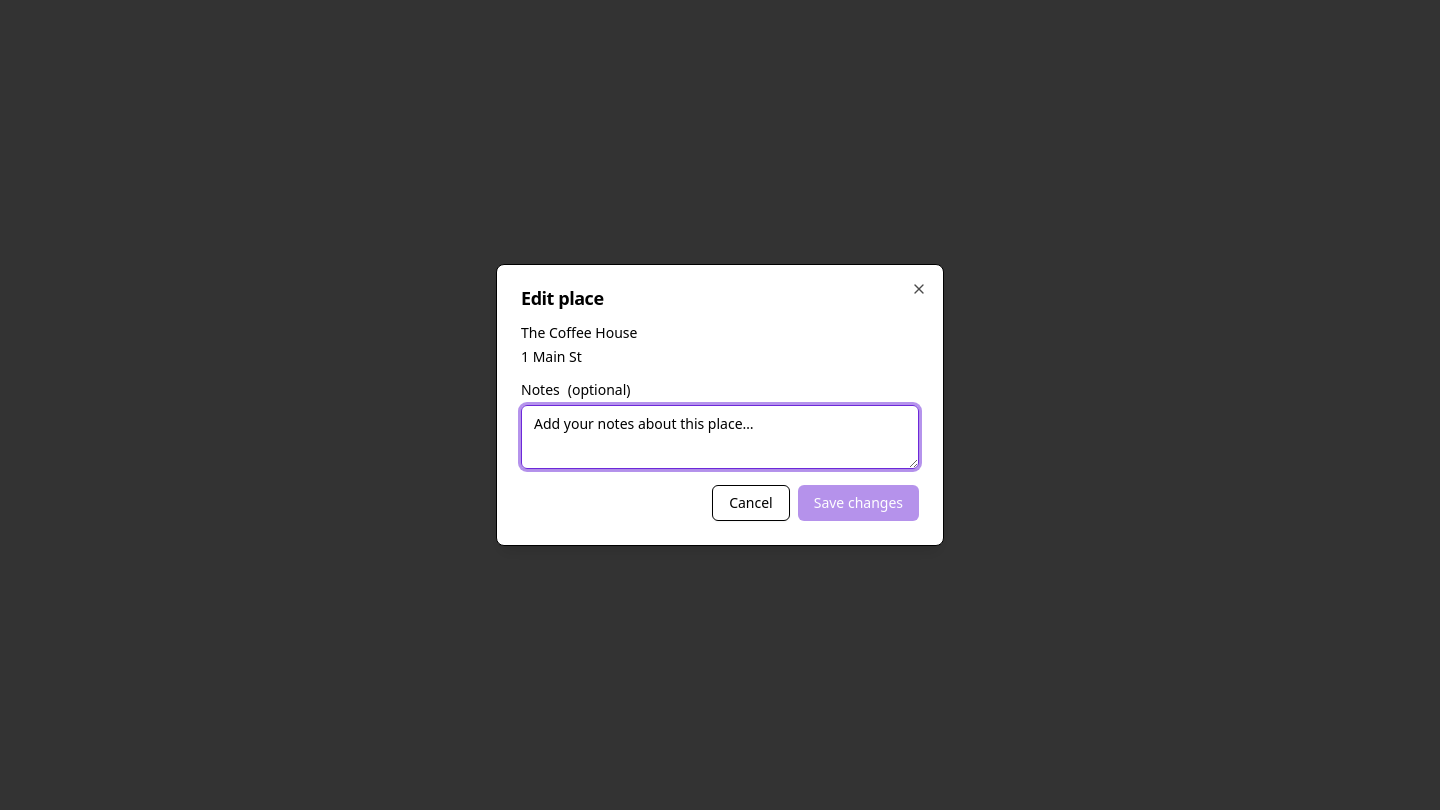
Test: EditPlaceDialog (places page) › Save button enabled after changing description
In the text box labelled "Notes (optional)": (720, 437) [521, 405, 919, 469], type "Great coffee"
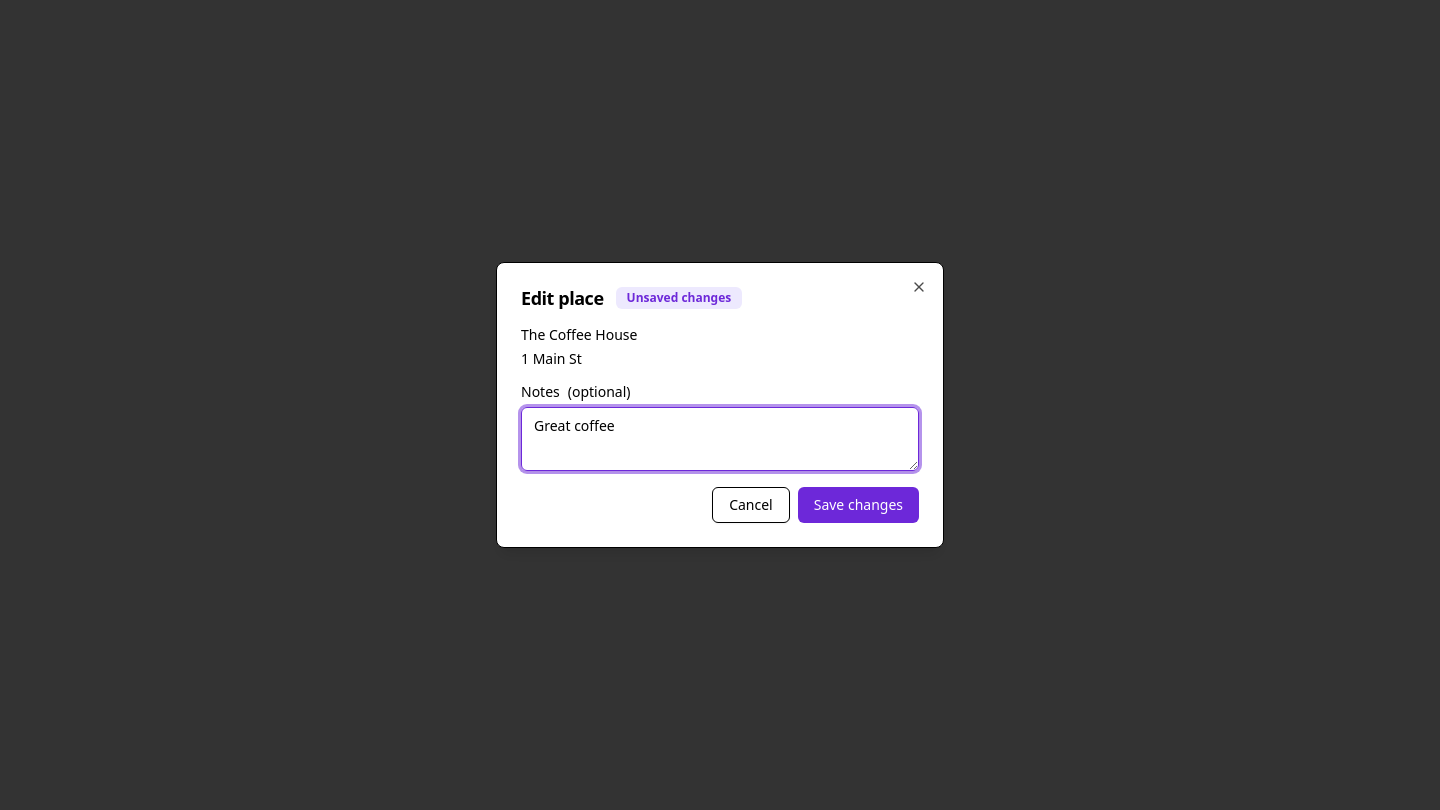
Result: the button "Save changes" is enabled at [798, 487, 919, 523]
